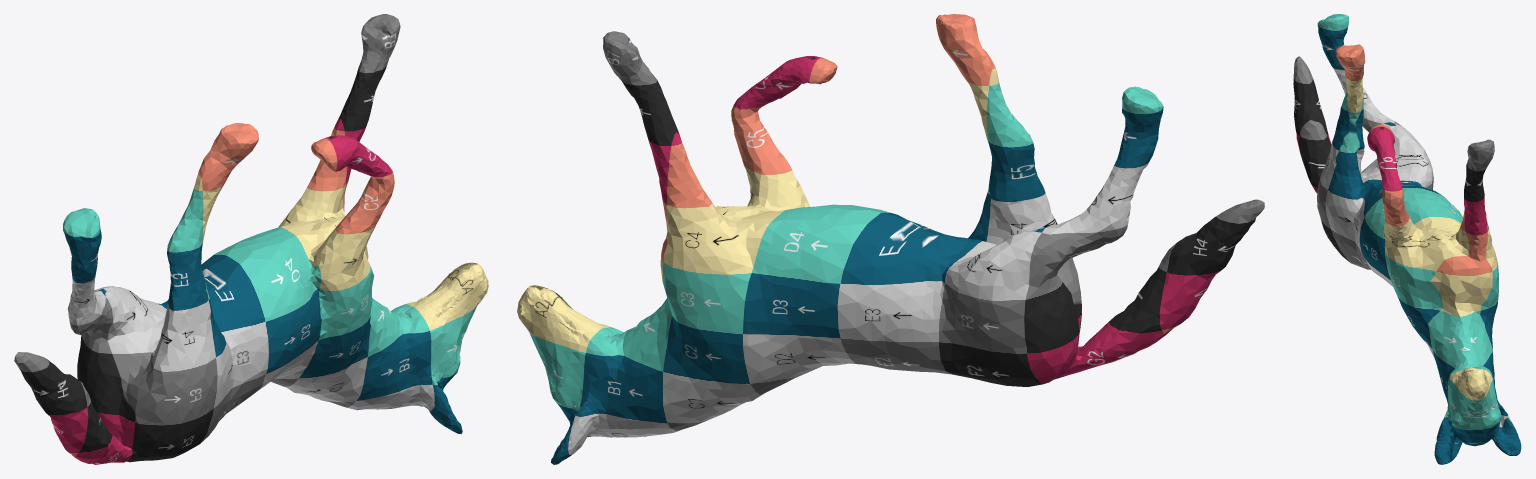
File: horse_07.obj
The picture shows the model from 3 angles, left to right: view 1: azimuth 30°, elevation 25°; view 2: azimuth 150°, elevation 25°; view 3: azimuth 270°, elevation 25°; orthographic projection. The views are drawn at different scales.
Visible parts, largest first — view 1: horse_07_export; view 2: horse_07_export; view 3: horse_07_export.
Boxes of the visible parts, bbox=[...] form: horse_07_export: bbox=[14, 14, 488, 464]; horse_07_export: bbox=[517, 14, 1264, 464]; horse_07_export: bbox=[1293, 14, 1521, 464].
Bounding box in the file's own units: 1.11 × 0.7505 × 0.4933.
